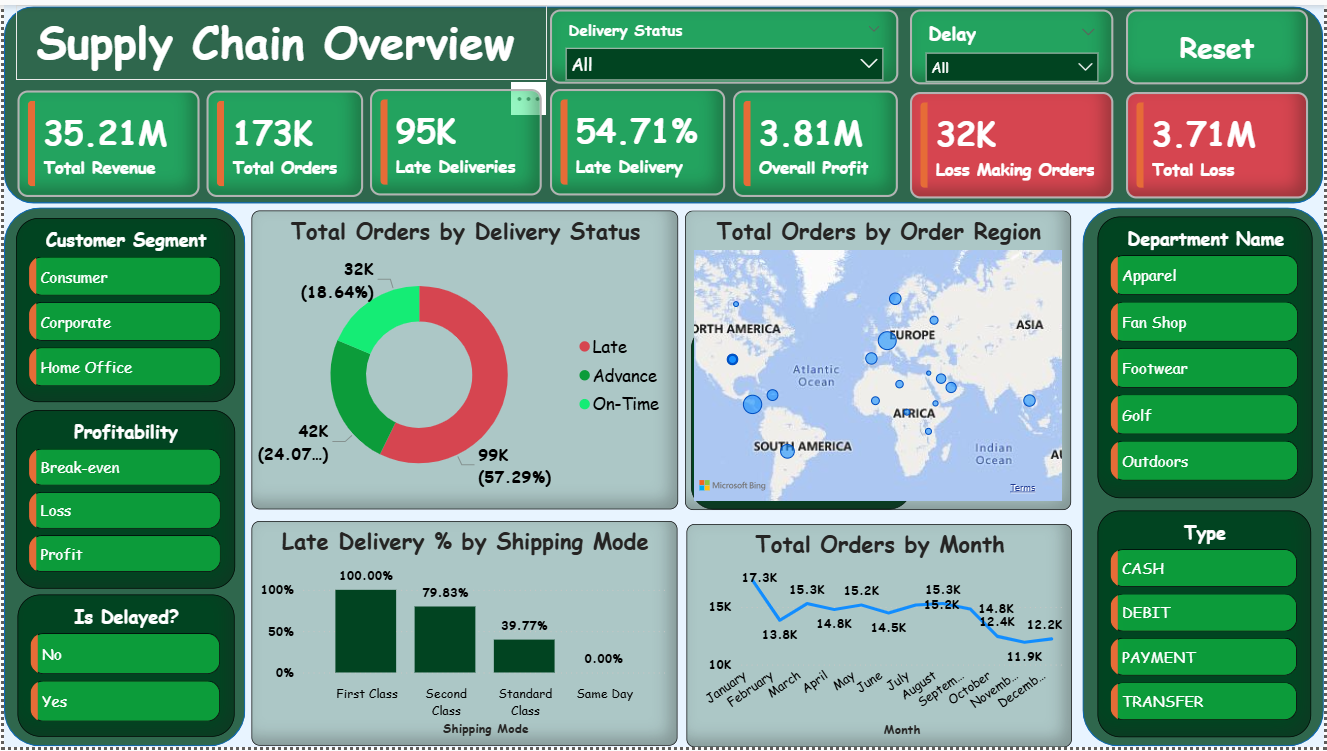

The dashboard page shown, as its layout file describes it:
{"tool":"powerbi","page":{"name":"Supply Chain Overview","canvas":[1280,720],"ordinal":0},"visuals":[{"type":"shape","box":[0,1.6,1280,191.1],"z":0},{"type":"shape","box":[0,196.3,234.2,522.9],"z":0,"group":"g1"},{"type":"shape","box":[1046.5,196.9,234.2,522.9],"z":1000},{"type":"advancedSlicerVisual","fields":{"Values":["supply_chain_analysis supply_chain_data.Customer Segment"]},"box":[11.2,206.8,212.4,178.9],"z":1000,"group":"g1"},{"type":"advancedSlicerVisual","fields":{"Values":["supply_chain_analysis supply_chain_data.Shipping Mode"]},"box":[666,312,214,178],"z":2000},{"type":"advancedSlicerVisual","fields":{"Values":["supply_chain_analysis supply_chain_data.Profitability"]},"box":[11.2,393.1,212.4,173.3],"z":2000,"group":"g1"},{"type":"advancedSlicerVisual","fields":{"Values":["supply_chain_analysis supply_chain_data.Department Name"]},"box":[1060.6,205.6,208.9,273.6],"z":3000},{"type":"advancedSlicerVisual","fields":{"Values":["supply_chain_analysis supply_chain_data.Is_Delayed - Copy"]},"box":[13,572,210.5,137.9],"z":3000,"group":"g1"},{"type":"textbox","box":[11.3,0,514.9,72.9],"z":5000},{"type":"cardVisual","fields":{"Data":["supply_chain_analysis supply_chain_data.Late Deliveries"]},"box":[354.6,81,166.8,103.6],"z":6000},{"type":"donutChart","fields":{"Category":["supply_chain_analysis supply_chain_data.Delivery Status"],"Y":["supply_chain_analysis supply_chain_data.Total Orders"]},"box":[240,200,414,290],"z":7000},{"type":"cardVisual","fields":{"Data":["supply_chain_analysis supply_chain_data.Total Orders"]},"box":[195.9,82.6,152.2,103.6],"z":8000},{"type":"map","fields":{"Category":["supply_chain_analysis supply_chain_data.Order Region"],"Size":["supply_chain_analysis supply_chain_data.Total Orders"]},"box":[661.4,199.4,374.5,290.7],"z":9000},{"type":"cardVisual","fields":{"Data":["supply_chain_analysis supply_chain_data.Total Profit"]},"box":[707.6,82.6,160.3,103.6],"z":10000},{"type":"clusteredColumnChart","title":"Late Delivery % by Shipping Mode","fields":{"Category":["supply_chain_analysis supply_chain_data.Shipping Mode"],"Y":["supply_chain_analysis supply_chain_data.Late Delivery Percent"]},"box":[240.3,501.2,413.6,218],"z":11000},{"type":"cardVisual","fields":{"Data":["supply_chain_analysis supply_chain_data.Late Delivery Percent"]},"box":[529.5,81,170,103.6],"z":12000},{"type":"lineChart","fields":{"Y":["supply_chain_analysis supply_chain_data.Total Orders"],"Category":["supply_chain_analysis supply_chain_data.order date (DateOrders).Variation.Date Hierarchy.Month"]},"box":[661.6,503.7,374.3,216.4],"z":13000},{"type":"cardVisual","fields":{"Data":["supply_chain_analysis supply_chain_data.Total Revenue"]},"box":[13,82.6,176.5,103.6],"z":14000},{"type":"group","id":"g1","title":"Group 1","box":[0,196.3,234.2,522.9],"z":15000},{"type":"cardVisual","fields":{"Data":["supply_chain_analysis supply_chain_data.Loss Making Orders"]},"box":[879.2,84.2,197.5,103.6],"z":16000},{"type":"actionButton","box":[1088.1,4.9,176.5,72.9],"z":17000},{"type":"cardVisual","fields":{"Data":["supply_chain_analysis supply_chain_data.Total Loss"]},"box":[1088.1,84.2,176.5,103.6],"z":18000},{"type":"advancedSlicerVisual","fields":{"Values":["supply_chain_analysis supply_chain_data.Type"]},"box":[1060.6,490.6,207.3,220.2],"z":19000},{"type":"slicer","title":"Delay","fields":{"Values":["supply_chain_analysis supply_chain_data.Delay"]},"box":[879.2,4.9,197.5,72.9],"z":20000},{"type":"slicer","title":"Delay","fields":{"Values":["supply_chain_analysis supply_chain_data.Delivery Status"]},"box":[529.5,4.9,338,72],"z":21000}]}

Visuals, with their boxes in screenshot pixels (x1, y1, x2, y2), scaled from the page's 1280x720 canvas onto the 1327x751 screenshot:
shape: 0,2,1326,201
shape: 0,205,243,750
shape: 1085,205,1326,750
advancedSlicerVisual - supply_chain_analysis supply_chain_data.Customer Segment: 12,216,232,402
advancedSlicerVisual - supply_chain_analysis supply_chain_data.Shipping Mode: 690,325,912,511
advancedSlicerVisual - supply_chain_analysis supply_chain_data.Profitability: 12,410,232,591
advancedSlicerVisual - supply_chain_analysis supply_chain_data.Department Name: 1100,214,1316,500
advancedSlicerVisual - supply_chain_analysis supply_chain_data.Is_Delayed - Copy: 13,597,232,740
textbox: 12,0,546,76
cardVisual - supply_chain_analysis supply_chain_data.Late Deliveries: 368,84,541,193
donutChart - supply_chain_analysis supply_chain_data.Delivery Status x supply_chain_analysis supply_chain_data.Total Orders: 249,209,678,511
cardVisual - supply_chain_analysis supply_chain_data.Total Orders: 203,86,361,194
map - supply_chain_analysis supply_chain_data.Order Region x supply_chain_analysis supply_chain_data.Total Orders: 686,208,1074,511
cardVisual - supply_chain_analysis supply_chain_data.Total Profit: 734,86,900,194
"Late Delivery % by Shipping Mode" clusteredColumnChart: 249,523,678,750
cardVisual - supply_chain_analysis supply_chain_data.Late Delivery Percent: 549,84,725,193
lineChart - supply_chain_analysis supply_chain_data.Total Orders x supply_chain_analysis supply_chain_data.order date (DateOrders).Variation.Date Hierarchy.Month: 686,525,1074,750
cardVisual - supply_chain_analysis supply_chain_data.Total Revenue: 13,86,196,194
"Group 1" group: 0,205,243,750
cardVisual - supply_chain_analysis supply_chain_data.Loss Making Orders: 911,88,1116,196
actionButton: 1128,5,1311,81
cardVisual - supply_chain_analysis supply_chain_data.Total Loss: 1128,88,1311,196
advancedSlicerVisual - supply_chain_analysis supply_chain_data.Type: 1100,512,1314,741
"Delay" slicer: 911,5,1116,81
"Delay" slicer: 549,5,899,80
